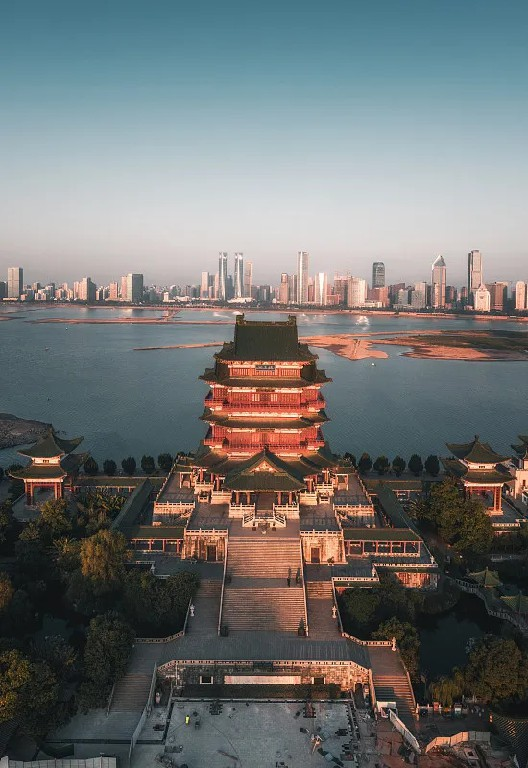Teng: (173, 314, 349, 508)
